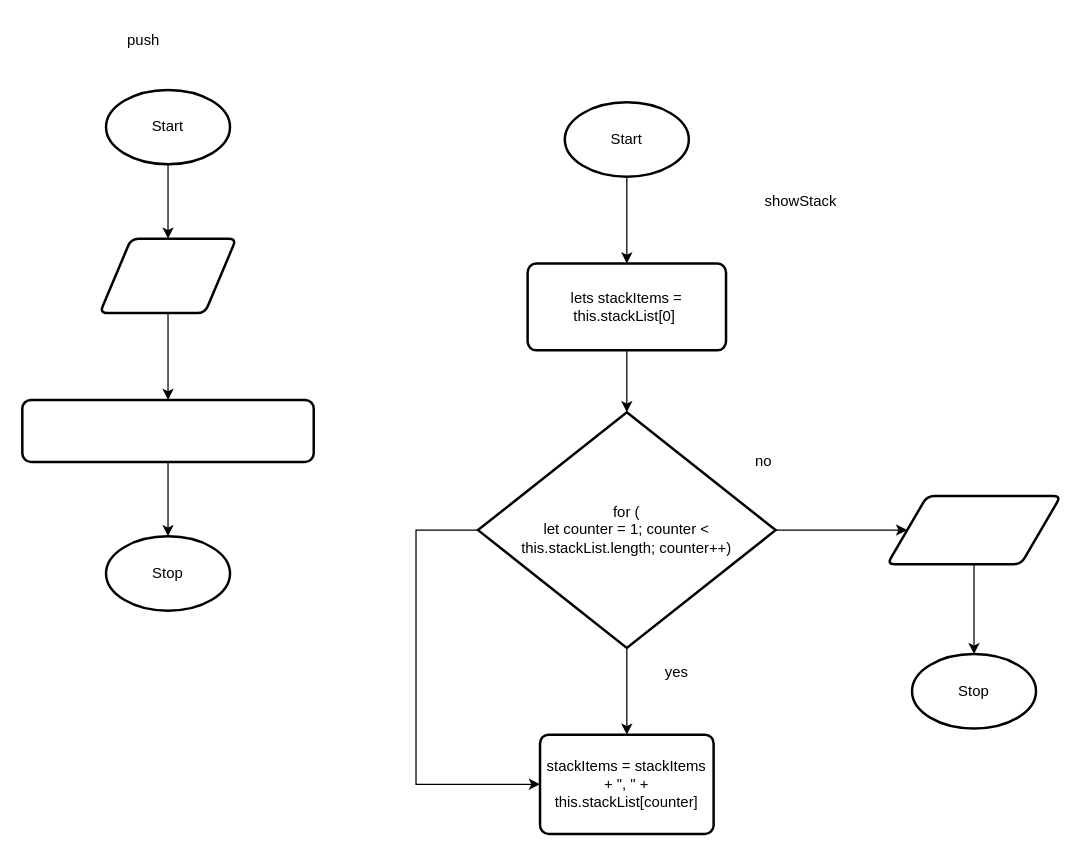
The diagram is 1084 pixels wide and 856 high, and some of its shapes have lost their labels. Each missing label, with the centre of its shape:
"return stackItems" belongs at [973,529].
"Set stringPushed" belongs at [167,275].
"this.stackList.Push(stringPushed)" belongs at [167,430].
